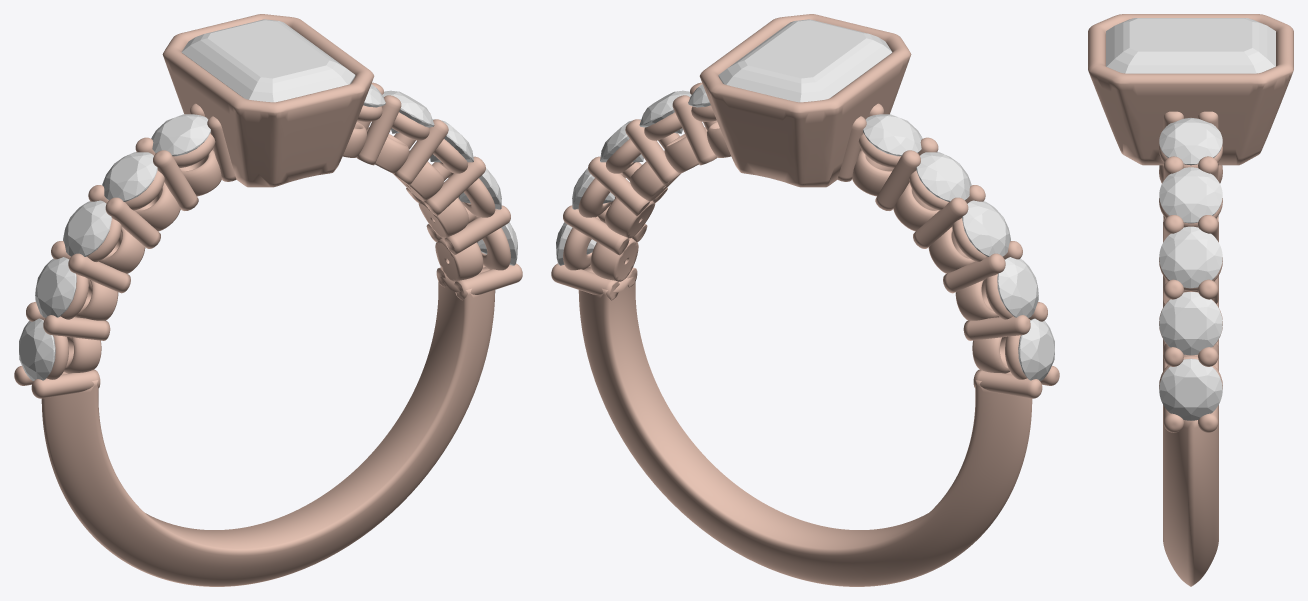
Rendered from diamond-emerald-rosegold-bezelset-knifeedge-11stone.glb.
3 renders of one model, left to right at view 1: azimuth 30°, elevation 25°; view 2: azimuth 150°, elevation 25°; view 3: azimuth 270°, elevation 25°, orthographic.
Parts seen in each view (by area): view 1: metal.002, stone.001, side.014, side.015, side.013, side.016, side.001, side.018; view 2: metal.002, stone.001, side.014, side.015, side.013, side.016, side.001, side.018; view 3: metal.002, stone.001, side.020, side.021, side.019, side.018, side.017.
Part boxes in pixels (box(x1,y1,x2,y2)): metal.002: box(14, 14, 522, 586); stone.001: box(181, 19, 355, 102); side.014: box(63, 200, 111, 256); side.015: box(102, 152, 157, 201); side.013: box(35, 257, 76, 317); side.016: box(151, 114, 210, 156); side.001: box(19, 318, 55, 380); side.018: box(382, 90, 434, 133); metal.002: box(551, 14, 1059, 586); stone.001: box(718, 19, 892, 102); side.014: box(962, 200, 1010, 256); side.015: box(916, 152, 971, 201); side.013: box(997, 257, 1038, 317); side.016: box(863, 114, 922, 156); side.001: box(1018, 318, 1054, 380); side.018: box(639, 90, 691, 133); metal.002: box(1088, 14, 1293, 586); stone.001: box(1106, 18, 1275, 73); side.020: box(1159, 292, 1222, 355); side.021: box(1159, 358, 1222, 420); side.019: box(1159, 226, 1222, 288); side.018: box(1159, 167, 1222, 223); side.017: box(1159, 118, 1222, 165).
Size of the model in its own units: 22 by 22.94 by 8.11.
